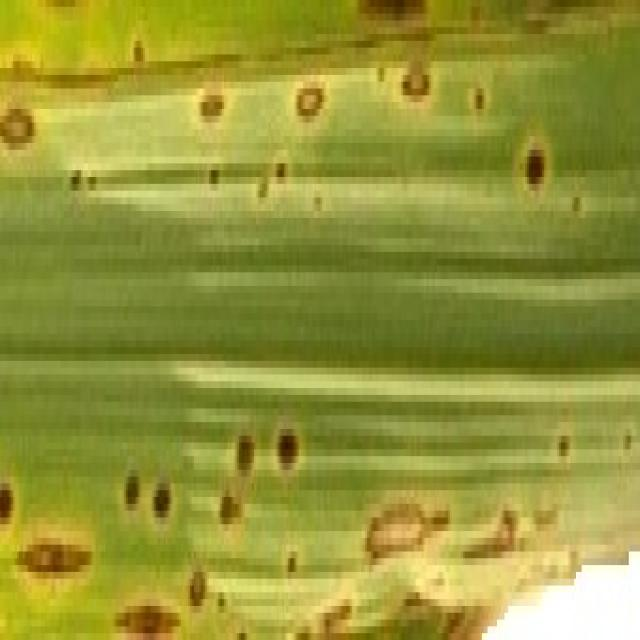brown spot: (109, 572, 183, 640), (513, 121, 555, 211), (187, 64, 234, 144), (395, 44, 440, 126), (266, 404, 308, 491), (113, 445, 147, 540), (286, 64, 334, 131), (145, 463, 183, 542), (214, 464, 246, 546), (276, 520, 311, 589), (232, 414, 259, 500), (185, 544, 210, 622), (462, 64, 494, 122), (268, 139, 292, 202), (550, 422, 578, 469), (251, 173, 276, 211), (308, 182, 329, 224), (618, 412, 636, 456)
leaf blight: (12, 509, 102, 603), (0, 84, 43, 160), (122, 16, 153, 88), (0, 45, 45, 84), (0, 461, 20, 538), (83, 159, 101, 215), (205, 146, 224, 197), (66, 155, 82, 204)
